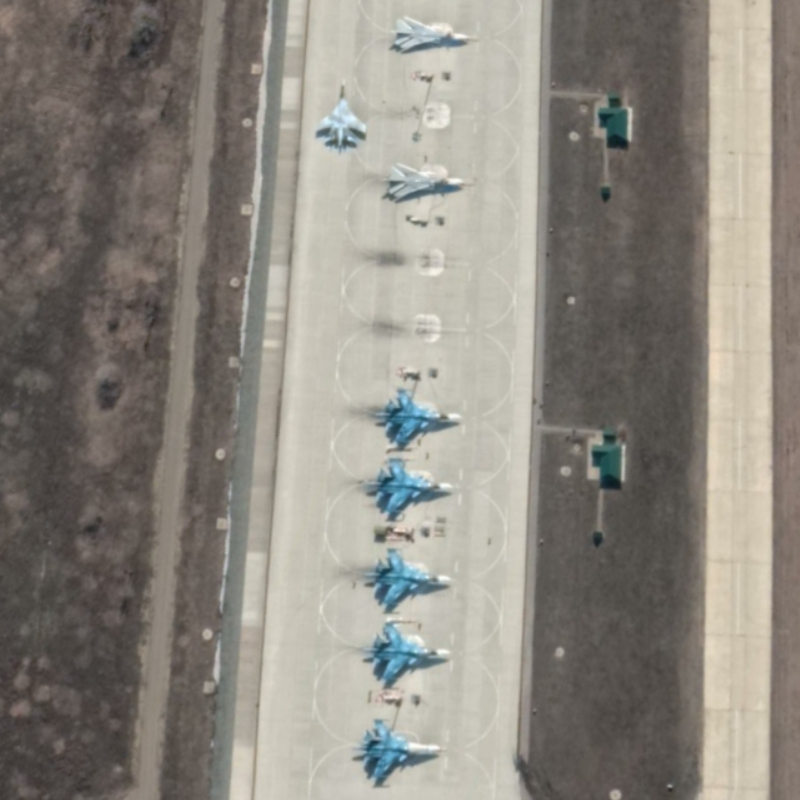A1: (314, 77, 368, 148)
A19: (352, 716, 443, 780), (362, 545, 453, 607), (362, 620, 453, 682), (362, 455, 455, 515), (375, 386, 464, 445)
A20: (387, 161, 465, 200), (393, 14, 471, 52)
